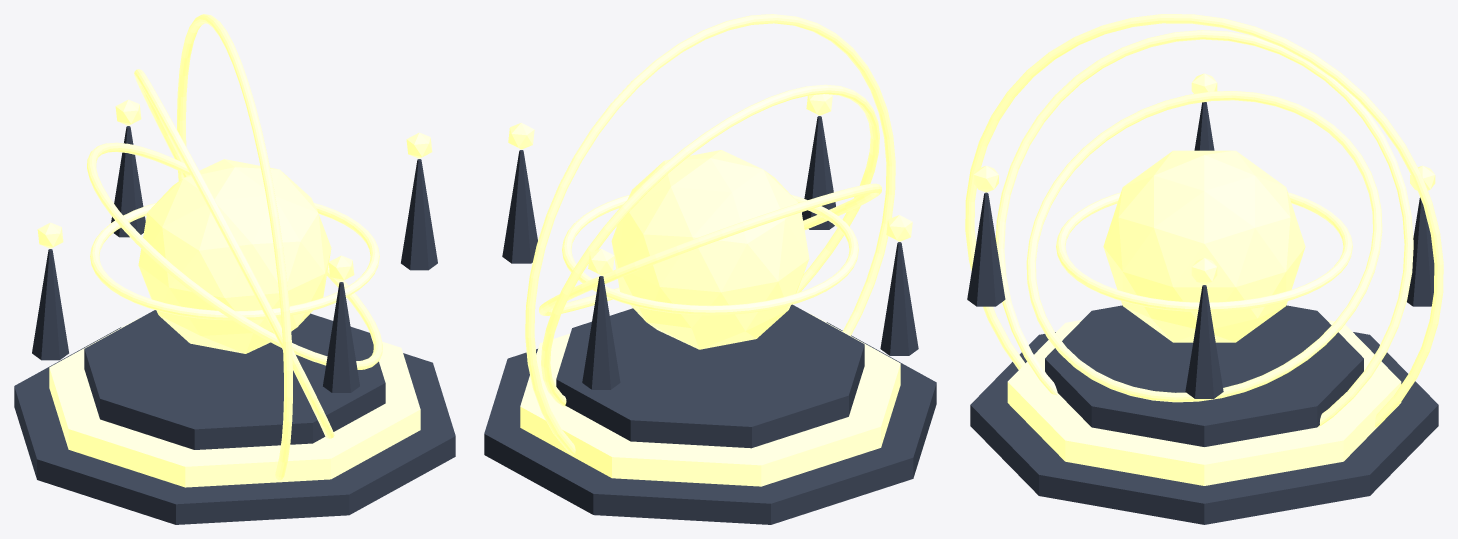
Rendered from gpu-blender-v51.glb.
3 views of the same model, side by side, from view 1: azimuth 30°, elevation 25°; view 2: azimuth 150°, elevation 25°; view 3: azimuth 270°, elevation 25° (orthographic). The views are drawn at different scales.
Parts seen in each view (by area): view 1: Cylinder.002, SovereignCore_polyglot-framework-exporter, Cylinder, Cylinder.001, Torus.003, Torus.001, Torus.002, Torus, Cone, Cone.002, Cone.003, Cone.001 (+4 smaller); view 2: Cylinder.002, SovereignCore_polyglot-framework-exporter, Cylinder, Cylinder.001, Torus.003, Torus.002, Torus, Torus.001, Cone.001, Cone.002, Cone, Cone.003 (+3 smaller); view 3: SovereignCore_polyglot-framework-exporter, Cylinder.002, Cylinder, Cylinder.001, Torus.001, Torus.003, Torus.002, Torus, Cone.003, Cone, Cone.001, Cone.002 (+2 smaller).
Part boxes in pixels (bbox=[...]): Cylinder.002: bbox=[84, 310, 385, 449]; SovereignCore_polyglot-framework-exporter: bbox=[138, 159, 331, 353]; Cylinder: bbox=[14, 327, 455, 524]; Cylinder.001: bbox=[49, 318, 420, 487]; Torus.003: bbox=[177, 14, 292, 480]; Torus.001: bbox=[87, 142, 382, 369]; Torus.002: bbox=[134, 69, 334, 438]; Torus: bbox=[90, 203, 379, 320]; Cone: bbox=[401, 159, 437, 270]; Cone.002: bbox=[32, 249, 68, 360]; Cone.003: bbox=[323, 282, 359, 392]; Cone.001: bbox=[111, 126, 145, 237]; Cylinder.002: bbox=[556, 304, 864, 448]; SovereignCore_polyglot-framework-exporter: bbox=[611, 150, 809, 349]; Cylinder: bbox=[484, 322, 936, 524]; Cylinder.001: bbox=[520, 313, 900, 486]; Torus.003: bbox=[525, 14, 895, 455]; Torus.002: bbox=[541, 84, 879, 406]; Torus: bbox=[562, 195, 858, 315]; Torus.001: bbox=[539, 183, 881, 315]; Cone.001: bbox=[582, 276, 620, 389]; Cone.002: bbox=[880, 242, 918, 355]; Cone: bbox=[502, 150, 537, 263]; Cone.003: bbox=[802, 116, 835, 229]; SovereignCore_polyglot-framework-exporter: bbox=[1103, 150, 1305, 342]; Cylinder.002: bbox=[1045, 305, 1363, 446]; Cylinder: bbox=[970, 332, 1438, 524]; Cylinder.001: bbox=[1007, 320, 1401, 485]; Torus.001: bbox=[1026, 91, 1382, 402]; Torus.003: bbox=[965, 14, 1443, 427]; Torus.002: bbox=[995, 30, 1413, 426]; Torus: bbox=[1056, 192, 1352, 311]; Cone.003: bbox=[967, 192, 1005, 306]; Cone: bbox=[1185, 285, 1223, 398]; Cone.001: bbox=[1407, 197, 1434, 306]; Cone.002: bbox=[1194, 102, 1214, 150].
Bounding box in the file's own units: 4.41 × 4.7 × 4.49.
